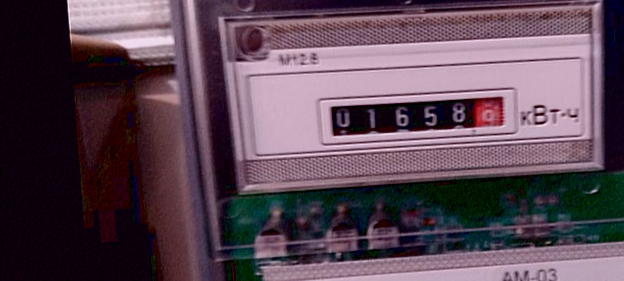0: (335, 104, 354, 126)
1: (365, 103, 381, 128)
5: (423, 101, 441, 126)
6: (394, 102, 414, 127)
8: (451, 99, 470, 122)
9: (481, 104, 498, 127)
screen: (315, 78, 525, 151)
